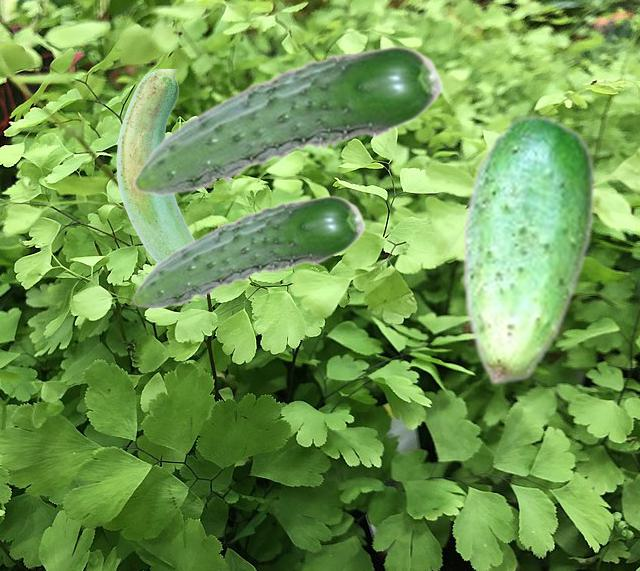cucumber: (132, 45, 443, 195), (461, 113, 594, 385), (131, 195, 365, 308), (116, 69, 194, 262)
